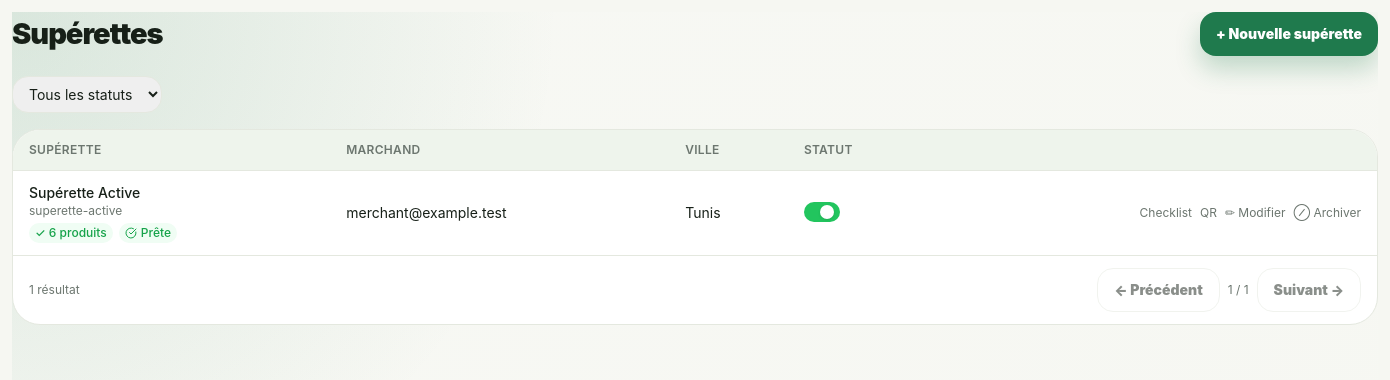
Test case: SuperettesPage › rafraîchit le badge activation après désactivation optimiste
The image size is (1390, 380).
Expected: the text "Prête" is shown, top-left (119, 223), bottom-right (177, 243)
Click the button named "Désactiver la supérette". click: (822, 212)
box: top-left (804, 202), bottom-right (840, 222)
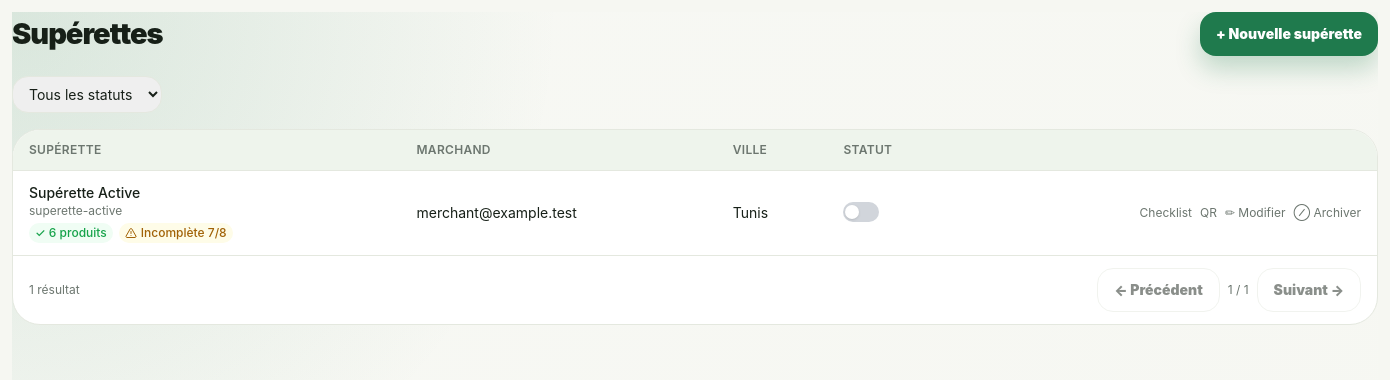
Expected: the text "Incomplète 7/8" is shown, top-left (119, 223), bottom-right (233, 243)
